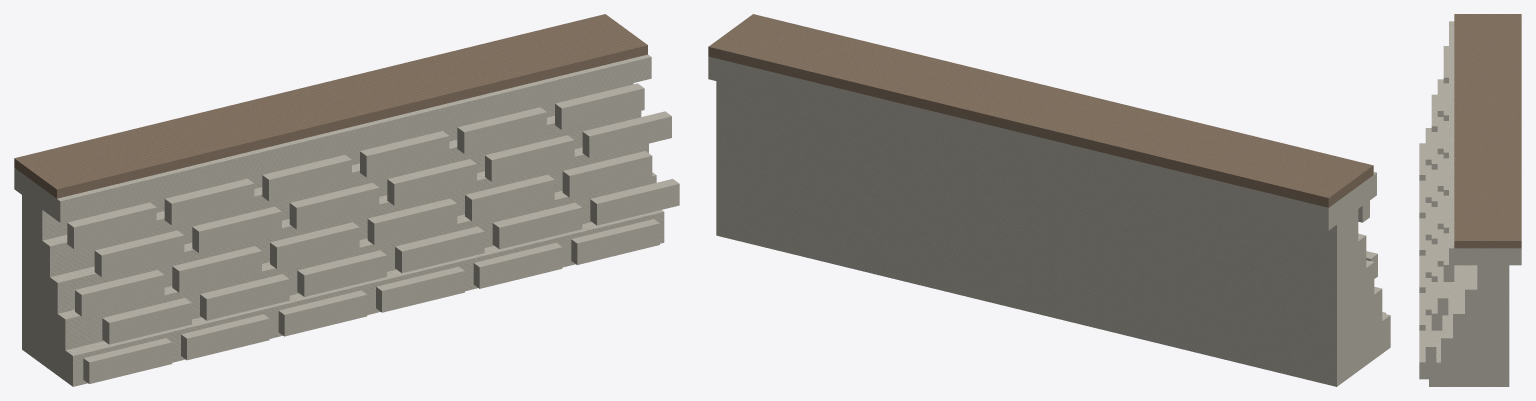
File: terrace-retaining-wall.glb
The picture shows the model from 3 angles, left to right: view 1: azimuth 30°, elevation 25°; view 2: azimuth 150°, elevation 25°; view 3: azimuth 270°, elevation 25°; orthographic projection. The views are drawn at different scales.
Parts seen in each view (by area): view 1: terrace-retaining-wall-stone, terrace-retaining-wall-soil; view 2: terrace-retaining-wall-stone, terrace-retaining-wall-soil; view 3: terrace-retaining-wall-stone, terrace-retaining-wall-soil.
Part boxes in pixels (<box>): terrace-retaining-wall-stone: <box>14,54,679,386</box>; terrace-retaining-wall-soil: <box>14,14,647,198</box>; terrace-retaining-wall-stone: <box>708,56,1390,386</box>; terrace-retaining-wall-soil: <box>708,14,1373,207</box>; terrace-retaining-wall-stone: <box>1419,21,1521,386</box>; terrace-retaining-wall-soil: <box>1454,14,1521,248</box>.
Bounding box in the file's own units: 4.09 × 1.2 × 0.76.
Materials: 2 (2 with a texture image).
